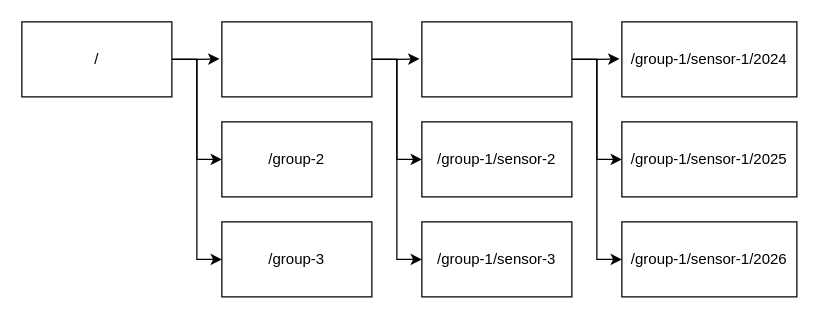
Image size: 819x319. Some labels were removed from this diagram. Each missing label, with the centre of its shape:
"/group-1" belongs at (x=296, y=59).
"/group-1/sensor-1" belongs at (x=496, y=59).
